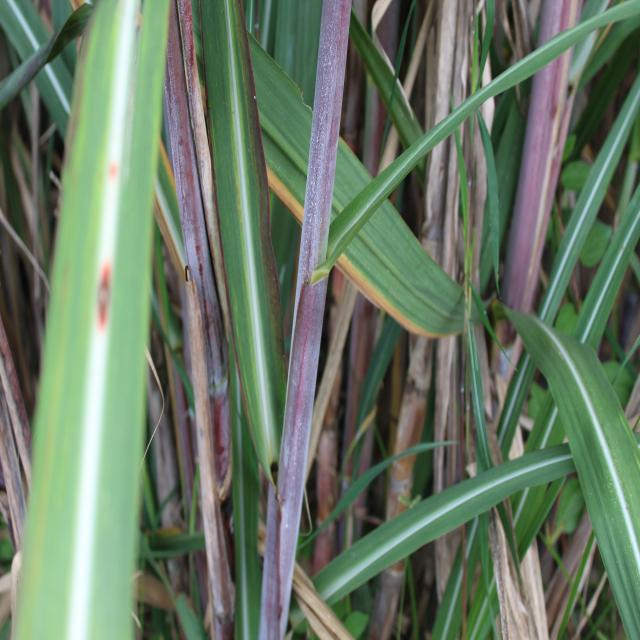Sugarcane: (0, 0, 365, 624), (280, 0, 409, 630), (351, 119, 640, 292), (120, 0, 284, 216), (343, 3, 541, 111), (495, 92, 638, 230), (4, 0, 129, 138), (374, 137, 468, 277), (169, 0, 236, 135), (121, 0, 209, 85), (209, 9, 263, 143), (516, 150, 636, 198), (375, 11, 423, 129), (121, 108, 172, 211), (246, 8, 294, 116), (578, 159, 640, 235), (231, 240, 297, 286), (513, 50, 636, 72), (618, 342, 640, 440), (510, 82, 628, 100)
